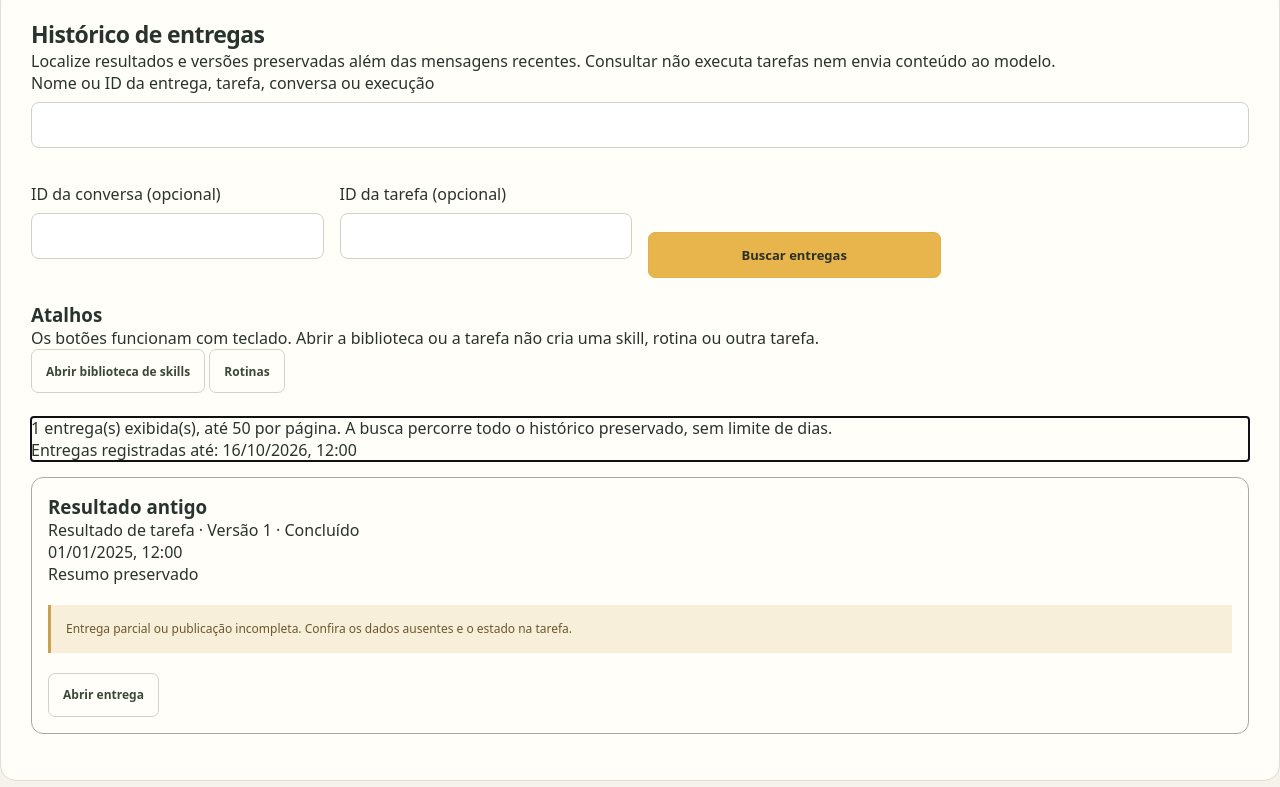
Test: delivery history with actual React state and native controls › reports a detail failure instead of showing an invented empty or replay action
Click the button "Abrir entrega".
click(103, 695)  # box [48,673,159,717]
(page scrolled)
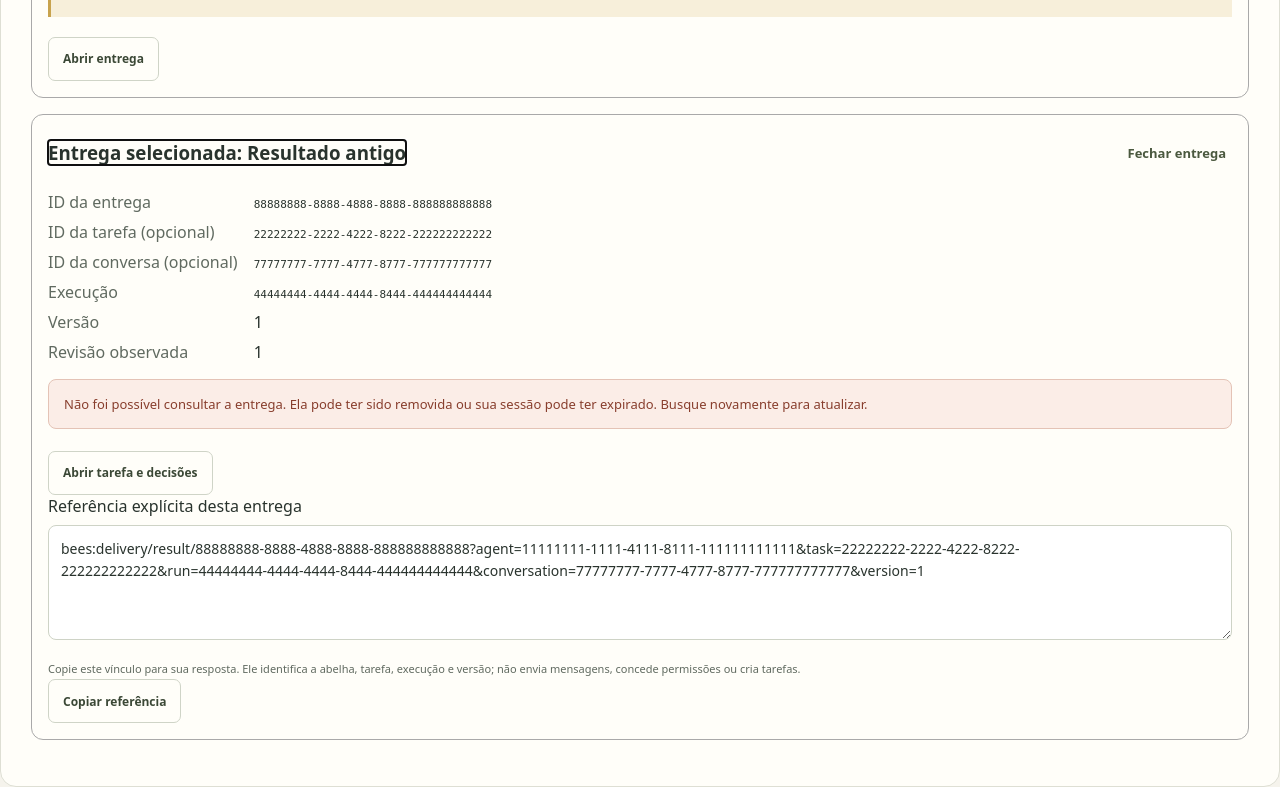
expect the message shows "Não foi possível consultar": met, box [64,395,868,413]
